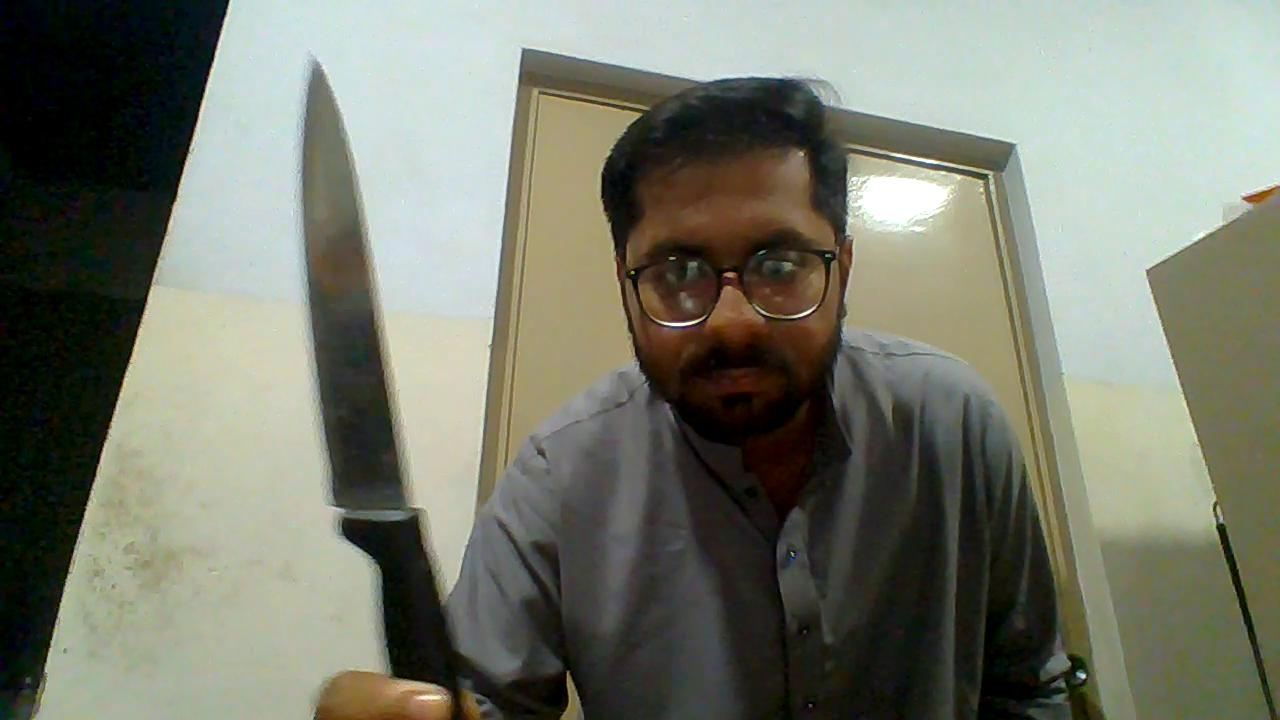criminal: (296, 56, 1076, 720)
weapon: (298, 57, 472, 720)
